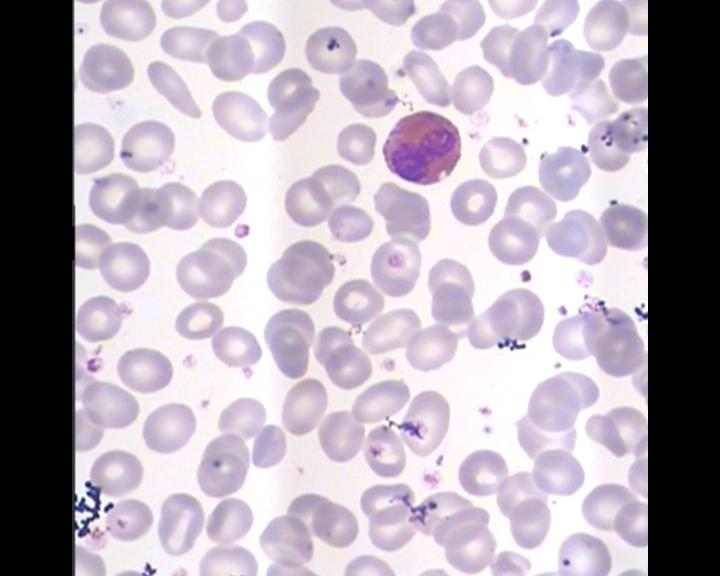eosi: (378, 107, 464, 190)
